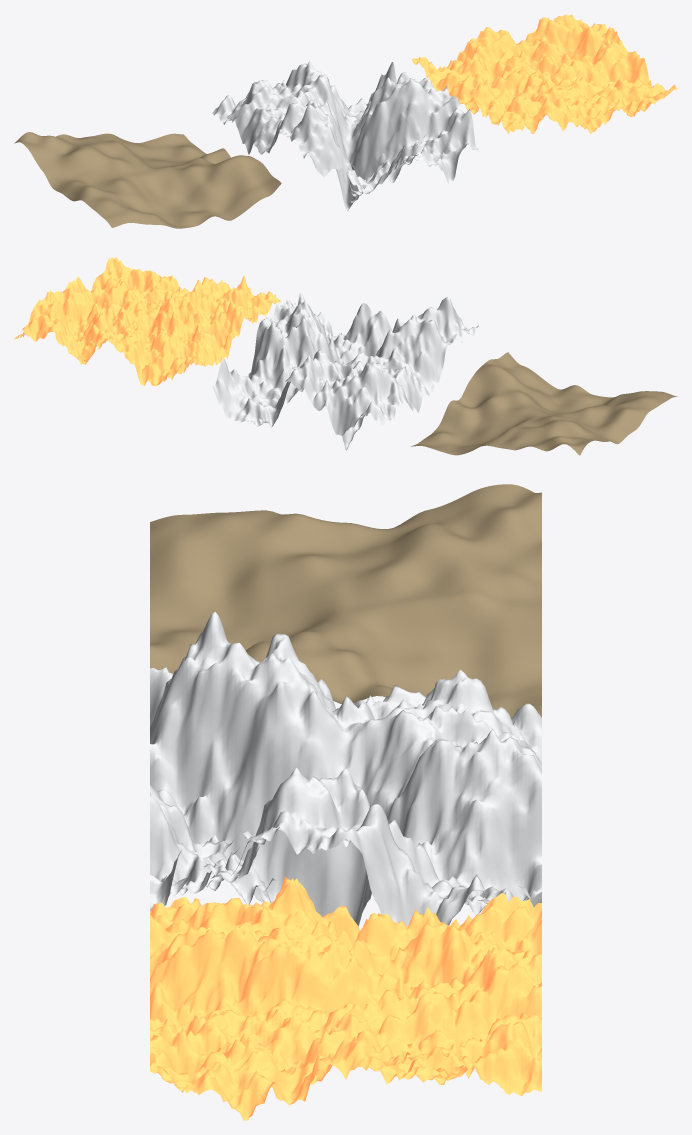
File: heightfield_terrain.glb
3 renders of one model, top to bottom at view 1: azimuth 30°, elevation 25°; view 2: azimuth 150°, elevation 25°; view 3: azimuth 270°, elevation 25°, orthographic. The views are drawn at different scales.
Visible parts, largest first — view 1: peaks, lava, hills; view 2: peaks, lava, hills; view 3: peaks, lava, hills.
Part boxes in pixels (x1,y1,x2,y2): peaks: (212, 61, 479, 210); lava: (411, 14, 677, 134); hills: (14, 132, 281, 228); peaks: (212, 292, 478, 450); lava: (14, 257, 281, 386); hills: (411, 352, 677, 455); peaks: (150, 612, 541, 927); lava: (150, 876, 541, 1120); hills: (150, 484, 541, 718).
Size of the model in its own units: 20 by 4.96 by 6.
